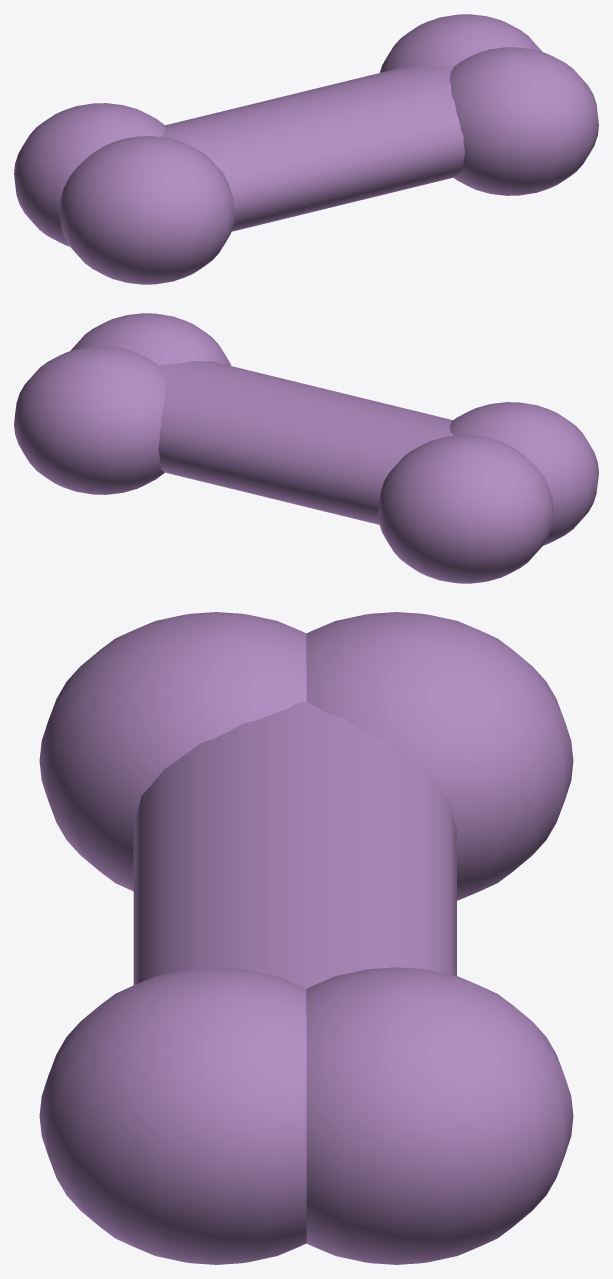
Rendered from dogtoy2.fbx.
3 renders of one model, top to bottom at view 1: azimuth 30°, elevation 25°; view 2: azimuth 150°, elevation 25°; view 3: azimuth 270°, elevation 25°, orthographic. The views are drawn at different scales.
Parts seen in each view (by area): view 1: pCylinder2; view 2: pCylinder2; view 3: pCylinder2.
Part boxes in pixels (<box>): pCylinder2: <box>14,14,598,284</box>; pCylinder2: <box>14,313,598,583</box>; pCylinder2: <box>39,612,573,1264</box>.
Size of the model in its own units: 67.79 by 16.15 by 30.3.
